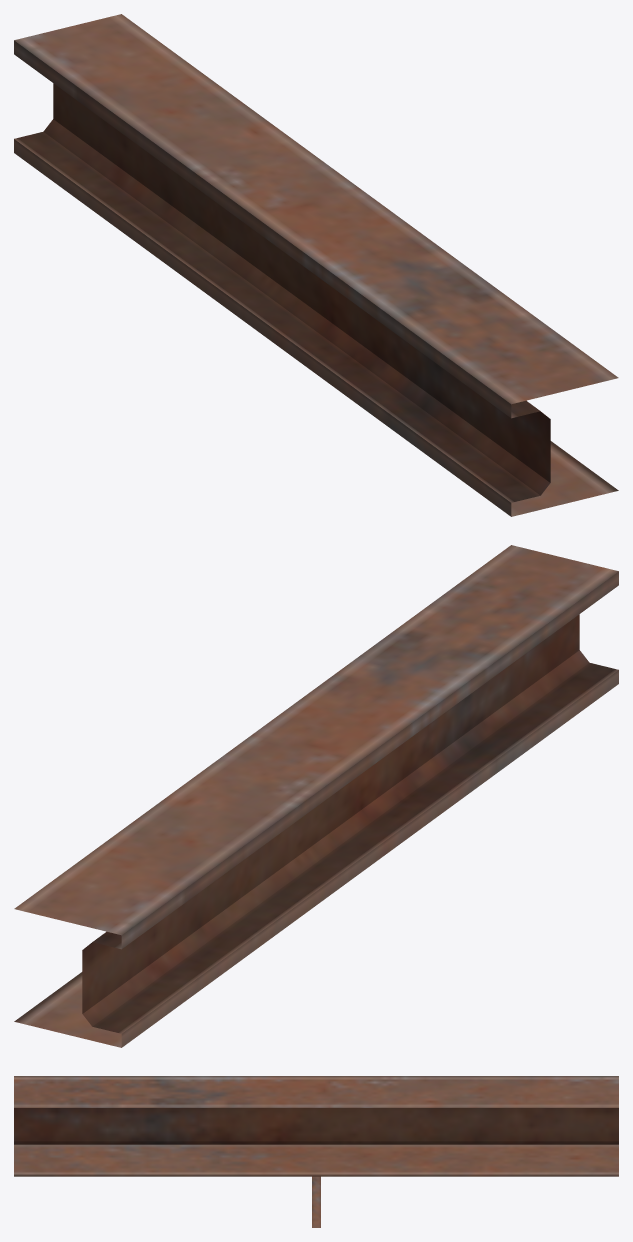
File: pplant_welder_short.dae
3 views of the same model, one above another, from view 1: azimuth 30°, elevation 25°; view 2: azimuth 150°, elevation 25°; view 3: azimuth 270°, elevation 25° (orthographic). The views are drawn at different scales.
Visible parts, largest first — view 1: welder_ceiling_straight_short; view 2: welder_ceiling_straight_short; view 3: welder_ceiling_straight_short.
Boxes of the visible parts, bbox=[...] form: welder_ceiling_straight_short: bbox=[14, 14, 618, 516]; welder_ceiling_straight_short: bbox=[14, 545, 618, 1047]; welder_ceiling_straight_short: bbox=[14, 1076, 618, 1227].
Bounding box in the file's own units: 0.25 × 0.4375 × 2.
